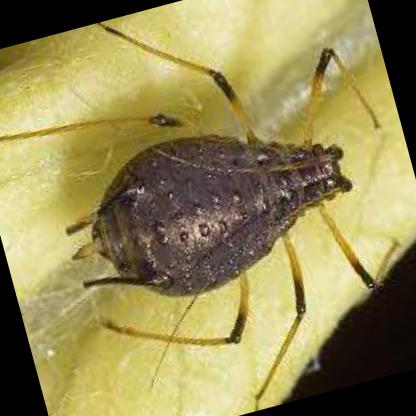uroleucon compositae: (0, 22, 380, 346)
